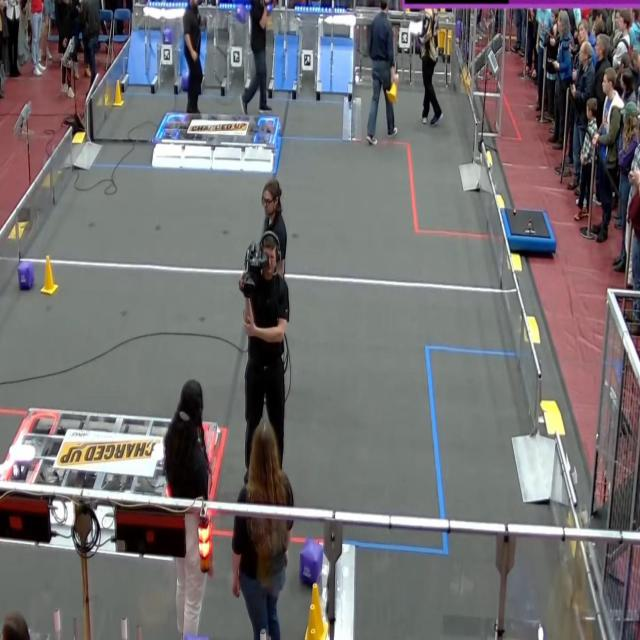frc_cone: (306, 578, 332, 640), (303, 602, 326, 640), (40, 256, 58, 294), (386, 74, 400, 106), (111, 80, 125, 108), (438, 27, 446, 48), (445, 35, 450, 57), (310, 627, 317, 640)
frc_cube: (18, 262, 34, 290), (163, 29, 173, 44)
